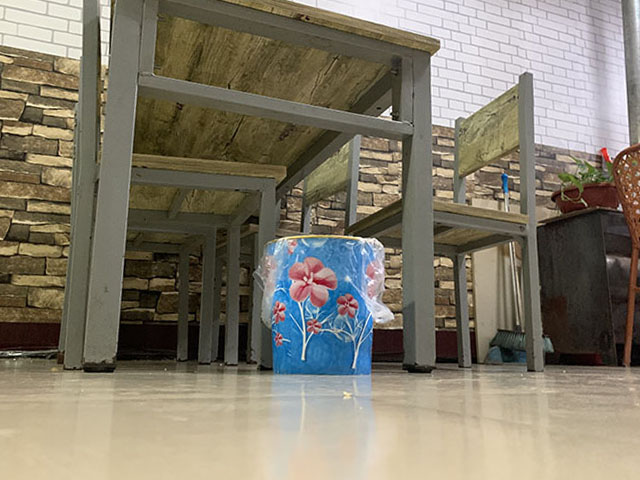stool: (62, 1, 290, 375), (341, 70, 547, 374)
table: (84, 1, 447, 374)
trashcan: (264, 234, 381, 373)
